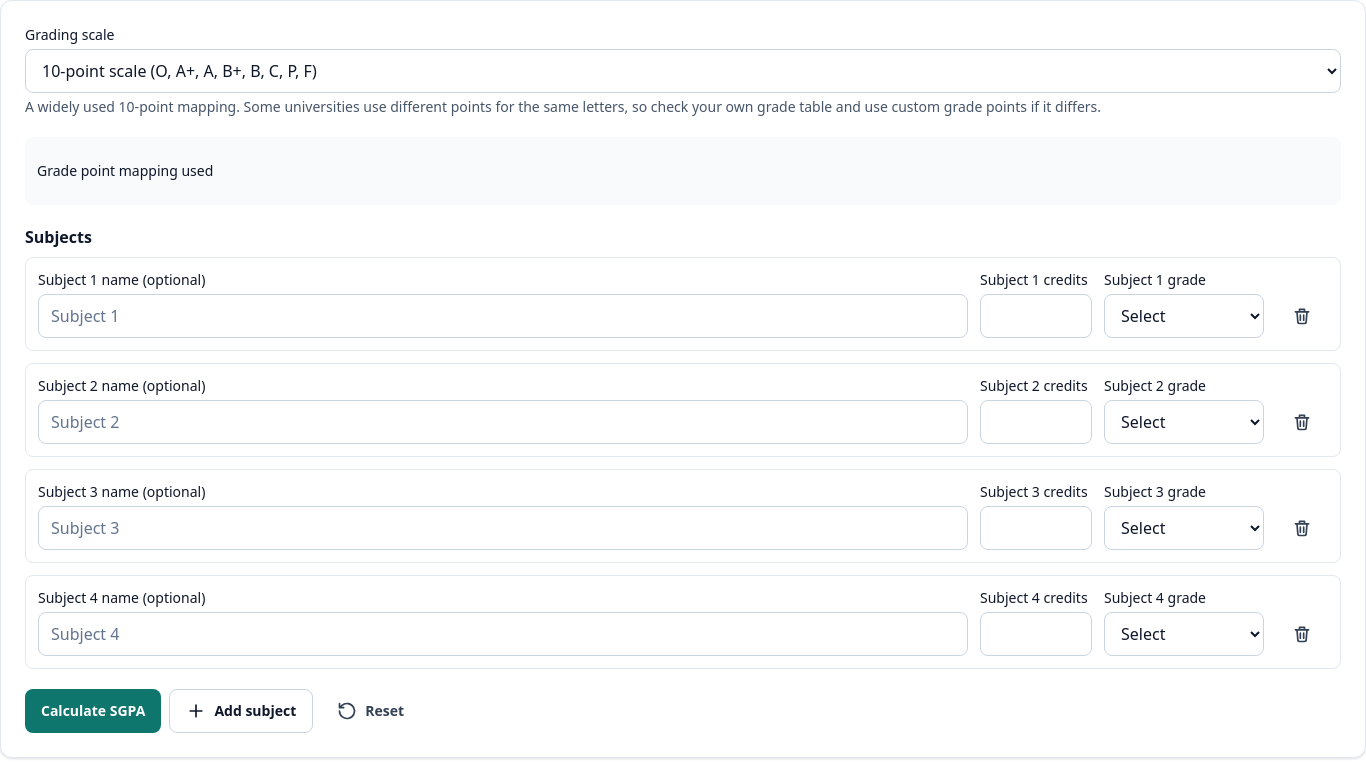
Test: SgpaCalculator › shows validation errors for incomplete rows
Type "3" into the field labelled "Subject 1 credits" at (1036, 316), box top-left (980, 294), bottom-right (1092, 338)
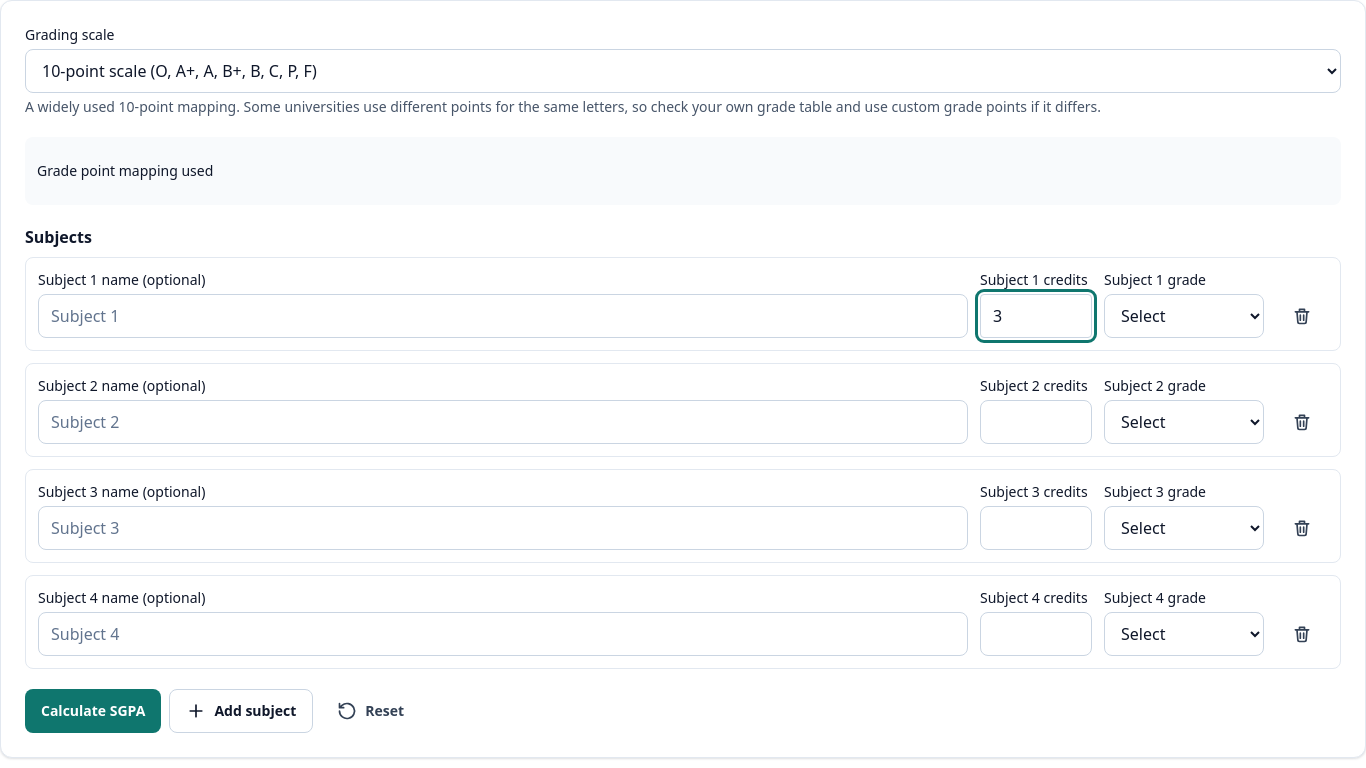
Click the button "Calculate SGPA" at (93, 711), box top-left (25, 689), bottom-right (161, 733)
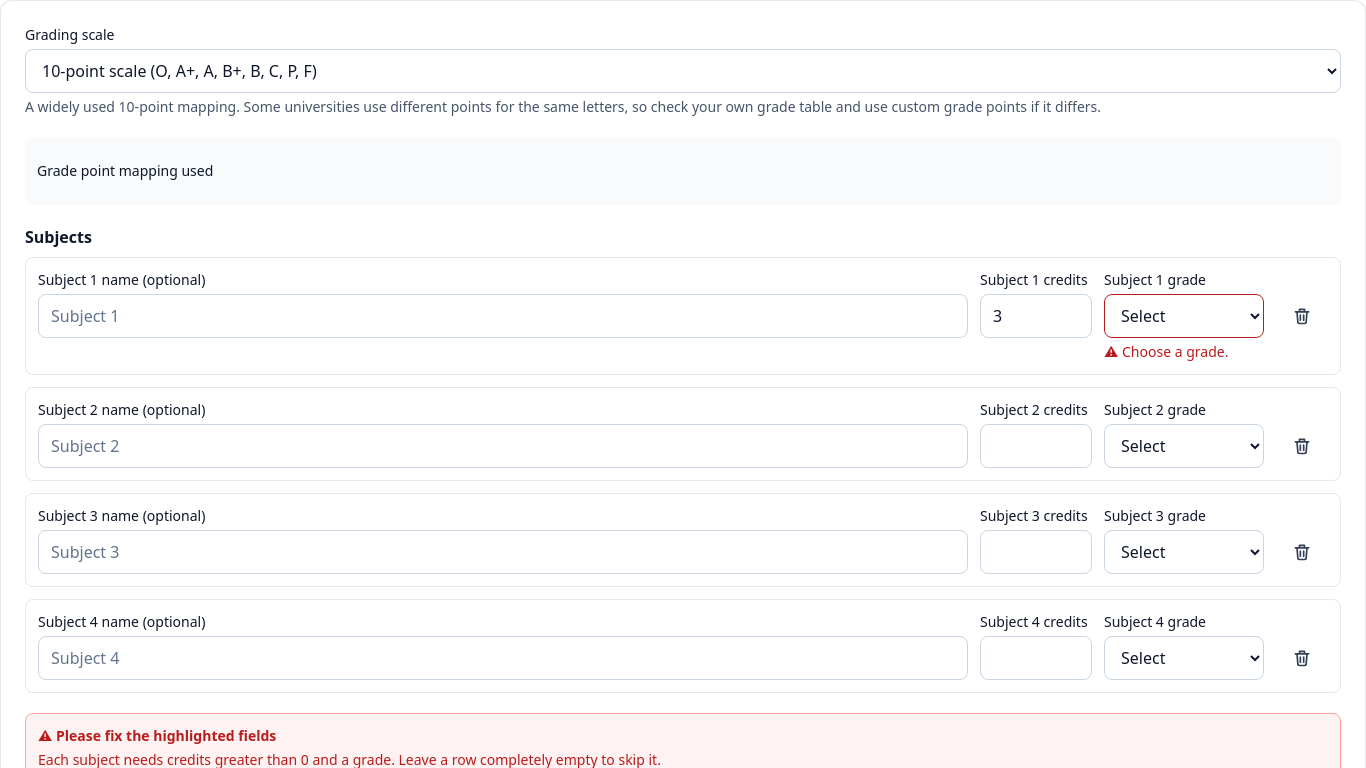
Result: the text "Choose a grade." is shown at top-left (1122, 342), bottom-right (1228, 361)
